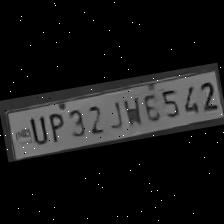2: (193, 77, 218, 112), (82, 100, 106, 136)
3: (62, 104, 86, 139)
4: (176, 80, 200, 115)
5: (156, 84, 180, 120)
6: (138, 88, 162, 124)
J: (103, 96, 125, 132)
P: (42, 108, 66, 144)
U: (23, 111, 46, 146)
W: (117, 92, 143, 128)
